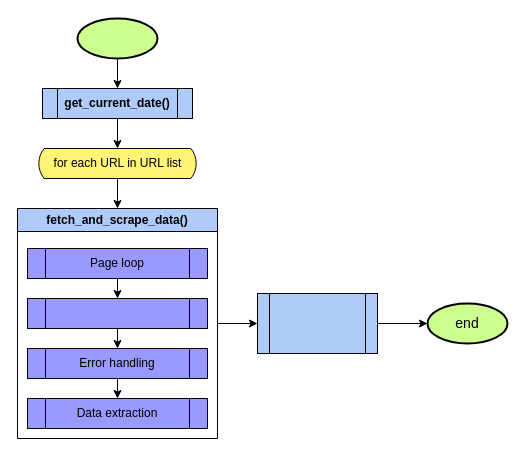
This 526x456 diagram has some shape labels left out. Here are the shapes that lost their labels. From the top down, the centre of each, then its label:
At point 117,38: "start".
At point 117,313: "Request handling".
At point 317,323: "modeller()".
